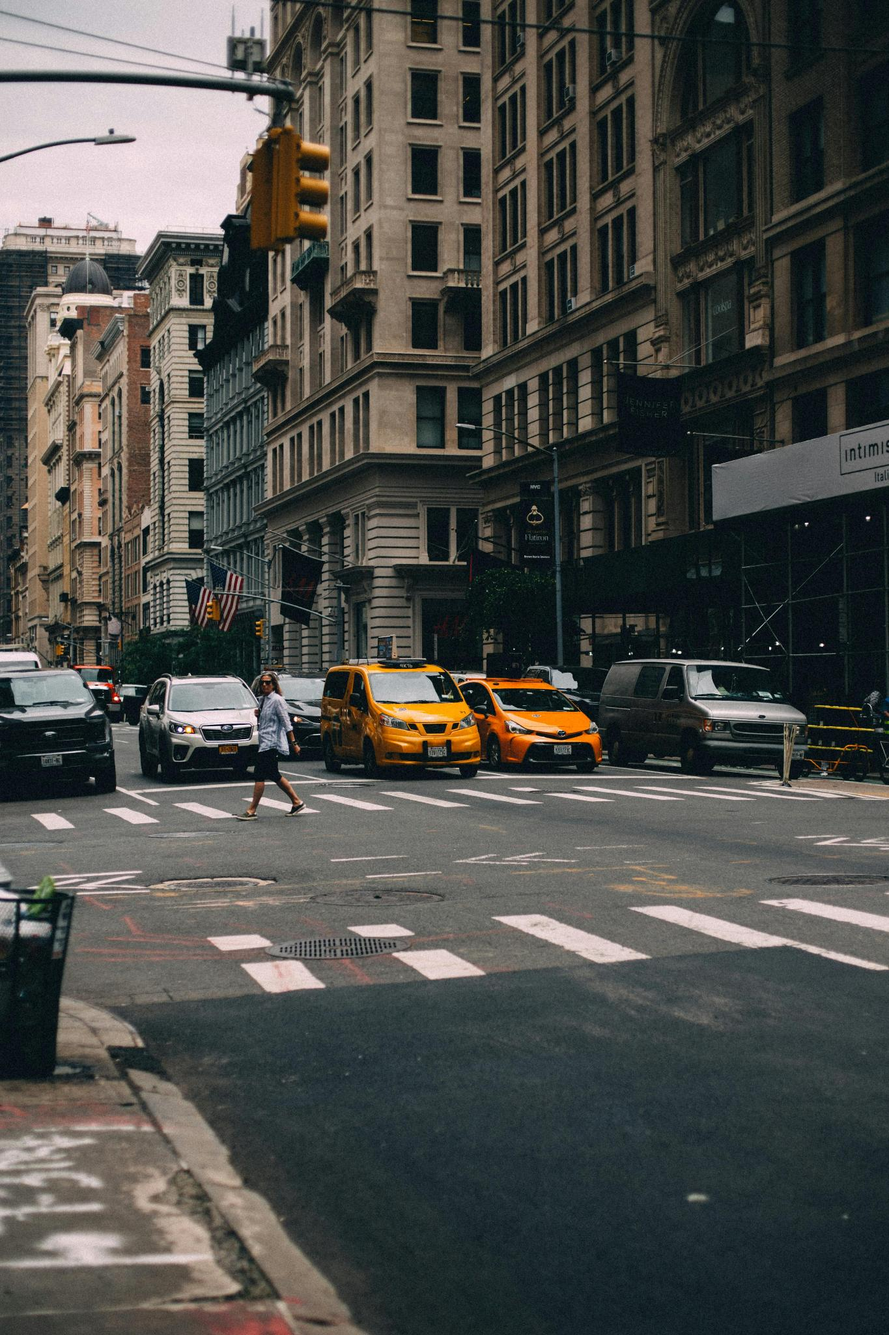car: (592, 652, 803, 777), (322, 663, 484, 786), (0, 659, 120, 800), (455, 677, 600, 774), (138, 679, 260, 787), (276, 674, 324, 756), (75, 665, 123, 717), (122, 681, 151, 724)
pedestrian: (249, 670, 313, 818)
